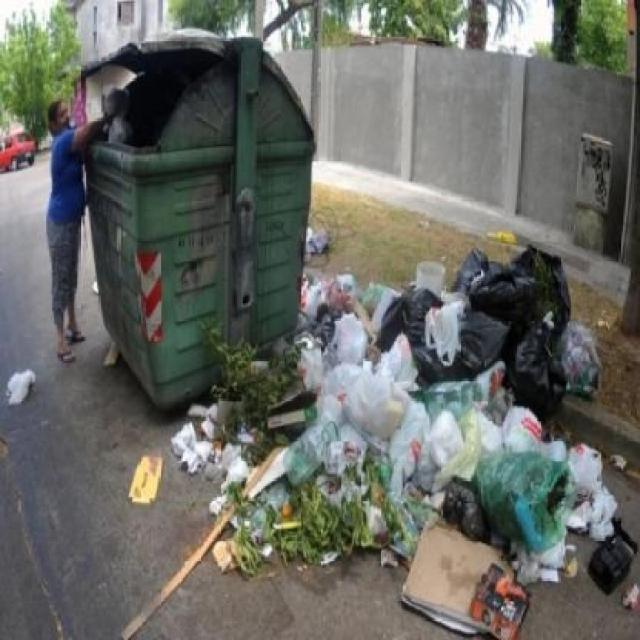garbage: (173, 337, 640, 638), (305, 268, 606, 327), (305, 214, 354, 267), (128, 451, 175, 504), (6, 366, 36, 413), (486, 220, 528, 249), (97, 334, 126, 366)
